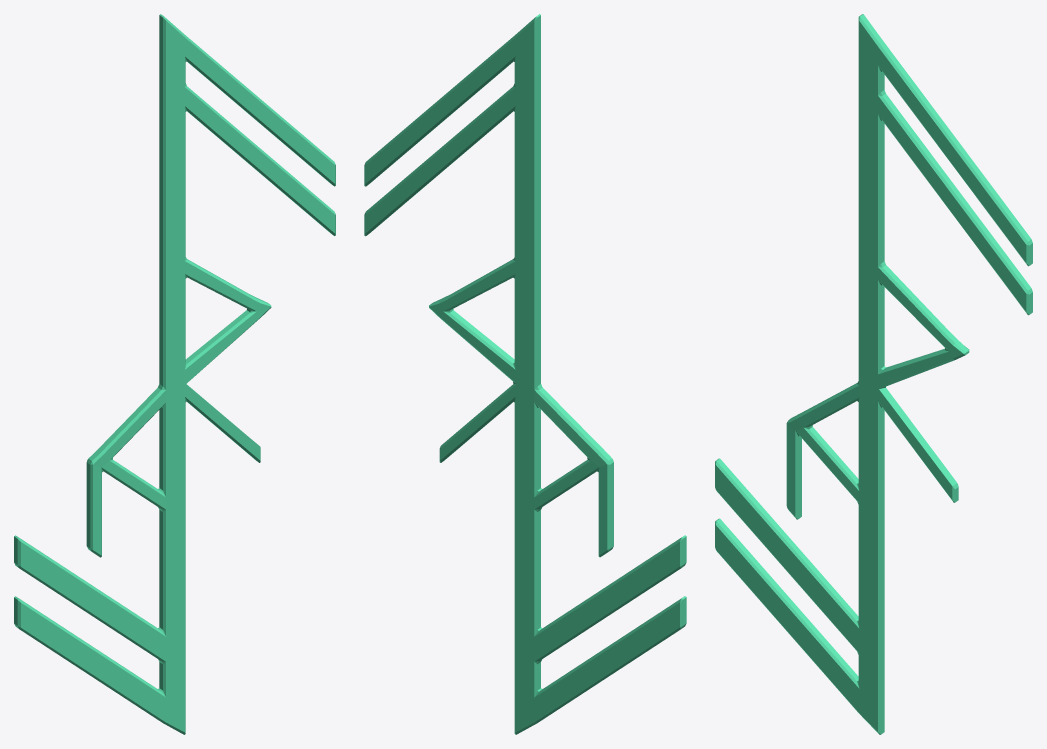
File: varda.glb
3 views of the same model, side by side, from view 1: azimuth 30°, elevation 25°; view 2: azimuth 150°, elevation 25°; view 3: azimuth 330°, elevation 25° (orthographic).
Visible parts, largest first — view 1: Varda; view 2: Varda; view 3: Varda.
Boxes of the visible parts, <box> form: Varda: <box>14,14,335,734</box>; Varda: <box>364,14,686,734</box>; Varda: <box>715,14,1032,734</box>.
Size of the model in its own units: 0.3944 by 0.856 by 0.0135.
